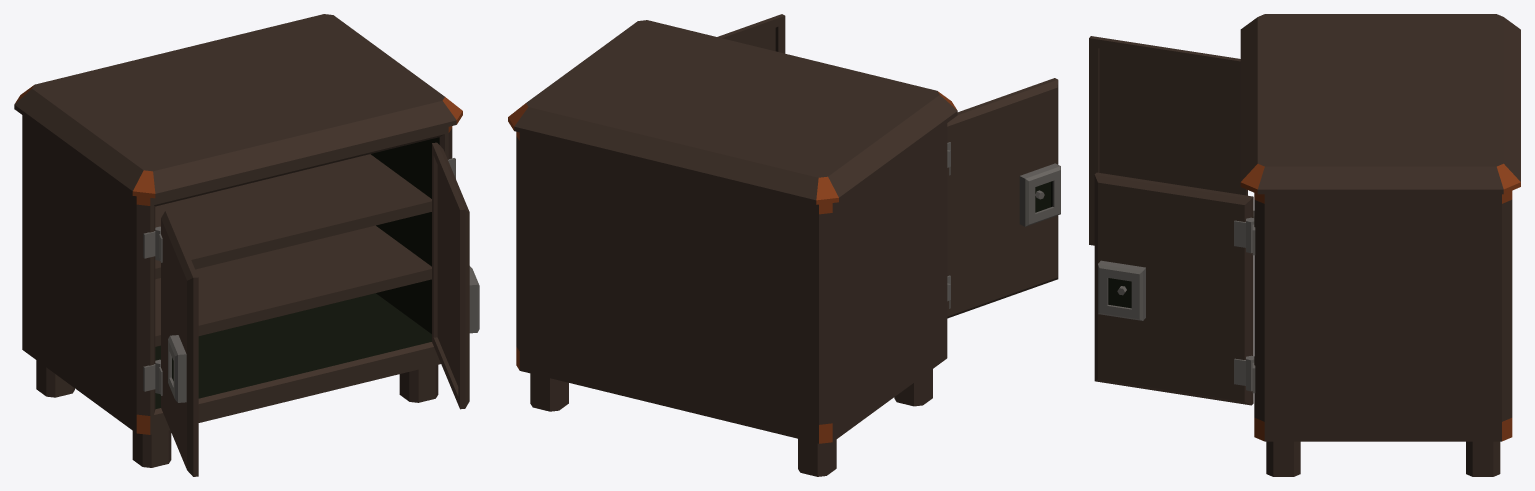
Rendered from bear-proof-food-locker-9144bb.glb.
3 renders of one model, left to right at view 1: azimuth 30°, elevation 25°; view 2: azimuth 150°, elevation 25°; view 3: azimuth 270°, elevation 25°, orthographic. The views are drawn at different scales.
Visible parts, largest first — view 1: locker-body, door-r-slab, door-l-slab; view 2: locker-body, door-l-slab, door-r-slab; view 3: locker-body, door-r-slab, door-l-slab.
Boxes of the visible parts, box(x1,y1,x2,y2) form: locker-body: box(14, 14, 462, 467); door-r-slab: box(432, 142, 479, 409); door-l-slab: box(159, 210, 198, 476); locker-body: box(508, 20, 957, 476); door-l-slab: box(947, 78, 1060, 318); door-r-slab: box(717, 14, 785, 53); locker-body: box(1240, 14, 1520, 476); door-r-slab: box(1094, 172, 1253, 405); door-l-slab: box(1089, 36, 1247, 245).
Size of the model in its own units: 1.25 by 1 by 1.26.
